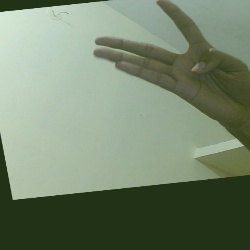hand: (91, 3, 250, 122)
